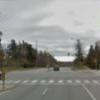crosswalks: (5, 80, 98, 83)
